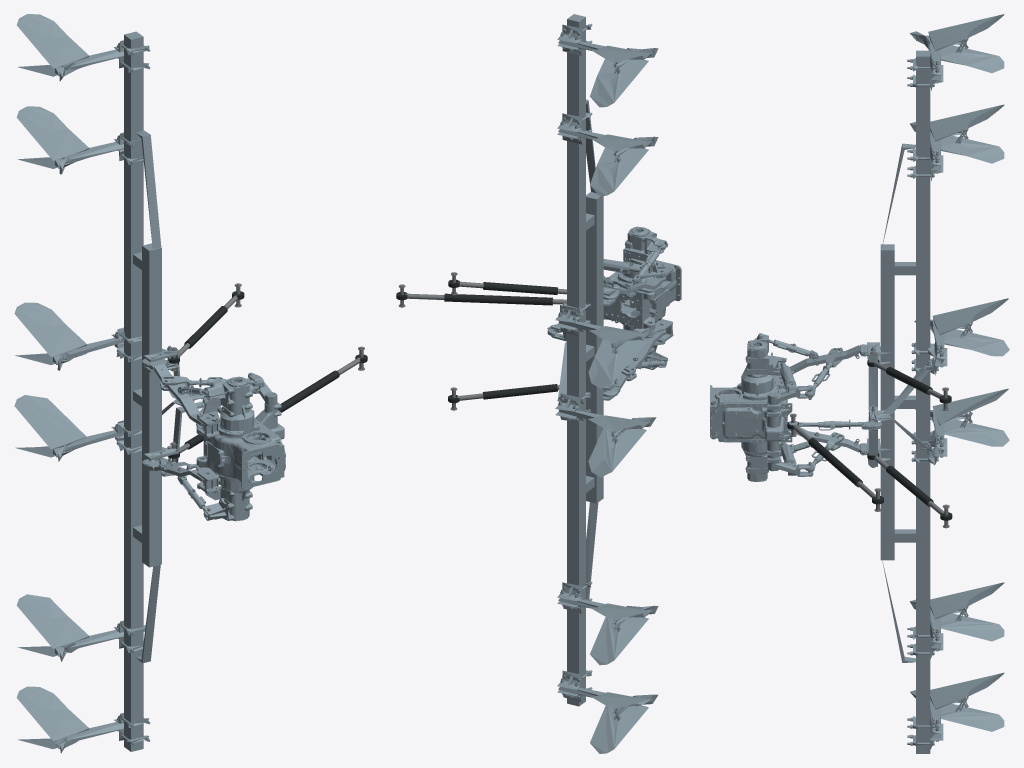
The model's file is implement_groove_maker_visual.obj.
3 views of the same model, side by side, from view 1: azimuth 30°, elevation 25°; view 2: azimuth 150°, elevation 25°; view 3: azimuth 270°, elevation 25° (orthographic). The views are drawn at different scales.
Visible parts, largest first — view 1: solid_0, solid_4, solid_335, solid_358, solid_297, solid_98, solid_144, solid_247, solid_190, solid_52, solid_6, solid_5 (+3 smaller); view 2: solid_0, solid_4, solid_335, solid_189, solid_143, solid_296, solid_246, solid_97, solid_51, hitch_top_link_sleeve, solid_358, solid_342 (+10 smaller); view 3: solid_0, solid_4, solid_327, solid_358, solid_246, solid_97, solid_51, solid_190, solid_297, solid_296, solid_144, solid_52 (+12 smaller).
Part boxes in pixels (x1,y1,x2,y2): solid_0: [124, 31, 143, 751]; solid_4: [142, 243, 161, 567]; solid_335: [196, 423, 284, 488]; solid_358: [218, 379, 259, 520]; solid_297: [14, 302, 86, 356]; solid_98: [16, 686, 89, 740]; solid_144: [16, 106, 89, 160]; solid_247: [14, 395, 86, 449]; solid_190: [17, 14, 89, 68]; solid_52: [16, 594, 89, 648]; solid_6: [136, 130, 161, 248]; solid_5: [136, 565, 160, 663]; solid_0: [567, 14, 585, 706]; solid_4: [586, 192, 603, 503]; solid_335: [603, 260, 681, 330]; solid_189: [590, 59, 648, 107]; solid_143: [590, 147, 648, 196]; solid_296: [588, 339, 646, 388]; solid_246: [588, 428, 646, 477]; solid_97: [590, 705, 648, 753]; solid_51: [590, 617, 648, 665]; hitch_top_link_sleeve: [444, 293, 552, 305]; solid_358: [618, 229, 658, 361]; solid_342: [603, 329, 666, 396]; solid_0: [916, 50, 930, 753]; solid_4: [880, 244, 894, 560]; solid_327: [710, 402, 792, 463]; solid_358: [737, 341, 778, 480]; solid_246: [944, 411, 1009, 446]; solid_97: [941, 696, 1004, 731]; solid_51: [941, 606, 1004, 641]; solid_190: [928, 14, 1004, 51]; solid_297: [932, 298, 1008, 335]; solid_296: [944, 322, 1009, 356]; solid_144: [930, 104, 1004, 141]; solid_52: [930, 582, 1004, 619].
Size of the model in its own units: 2.29 by 5.51 by 2.1.
